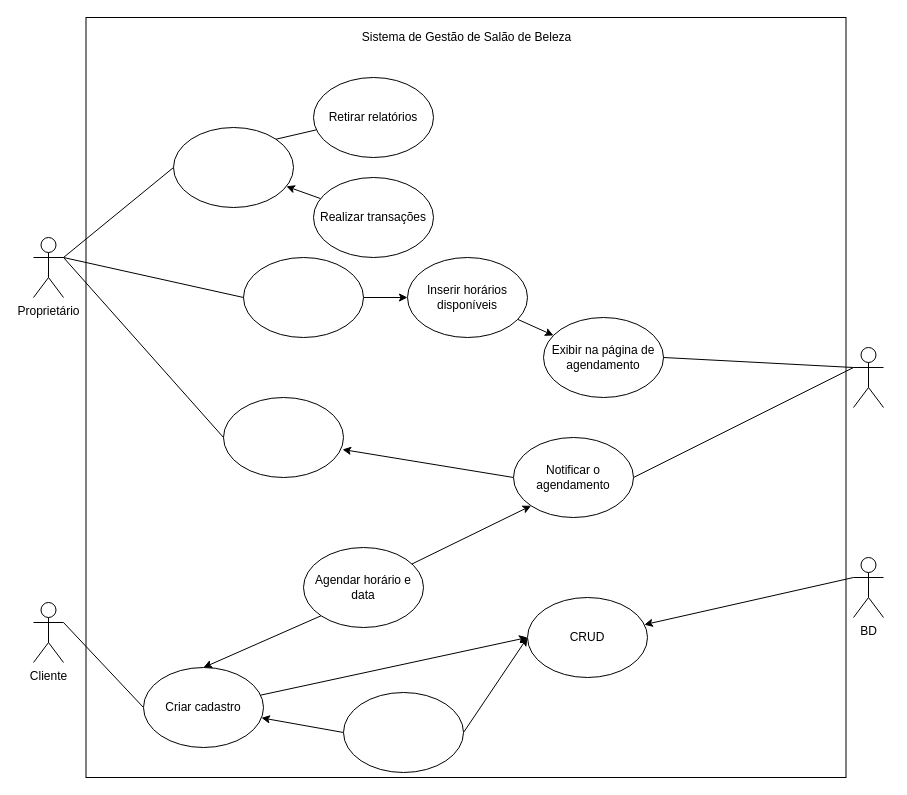
This 907x795 diagram has some shape labels left out. The centre of each missing label's shape, as x and y in pixels:
Abrir o caixa: pixel 233 167
Alterar cadastro: pixel 403 732
Inserir datas disponíveis: pixel 303 297
Sistema: pixel 868 377
Visualizar notificação: pixel 283 437
